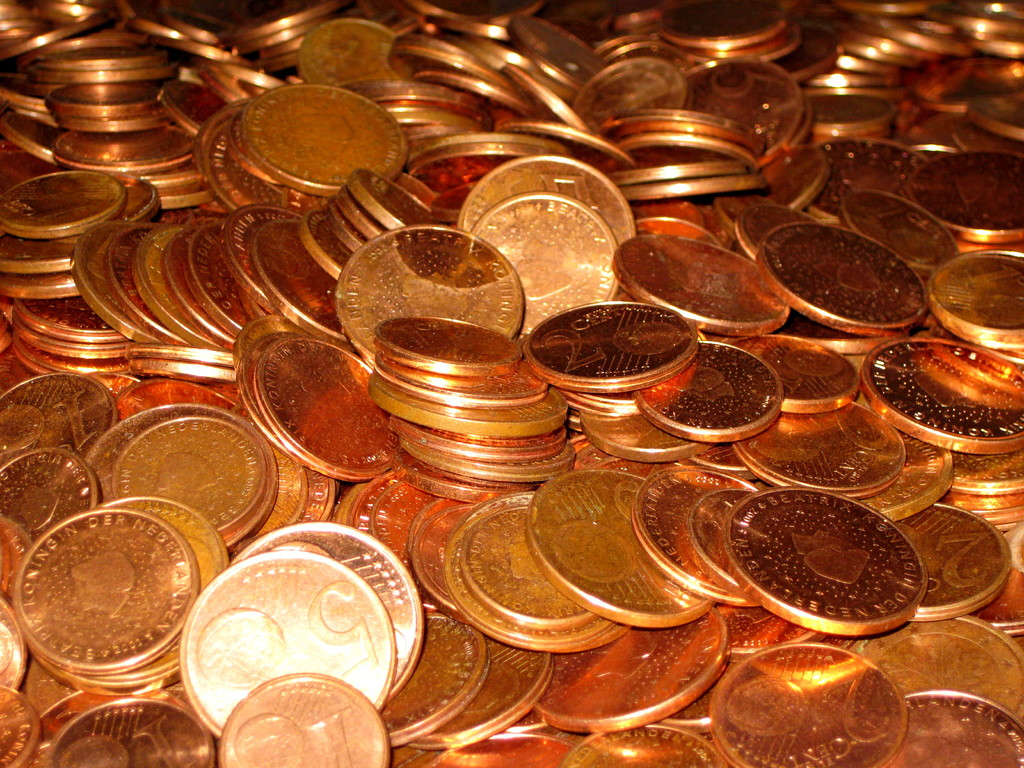Coin: (0, 0, 1023, 768)
